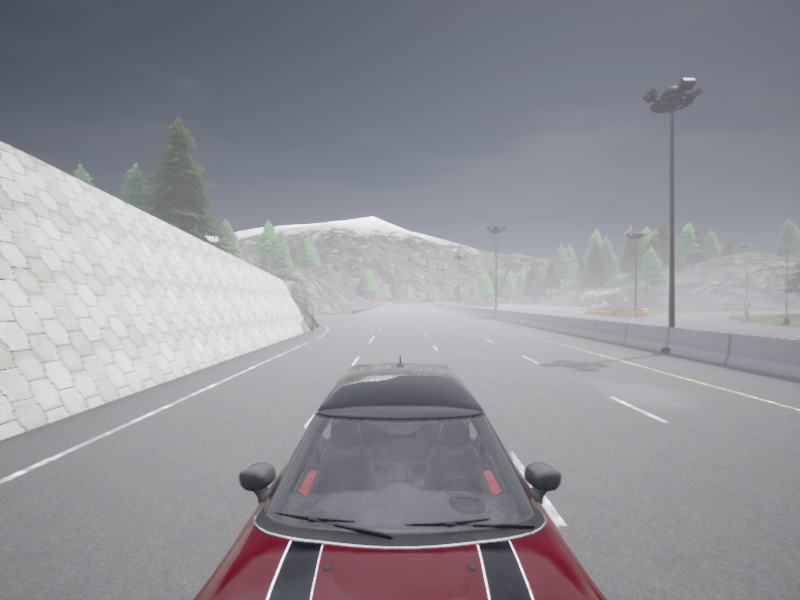vehicle: (193, 355, 606, 599)
